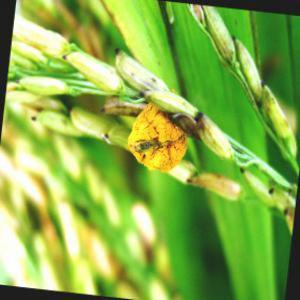Leaf_Scald: (140, 102, 184, 170), (127, 120, 150, 164)
